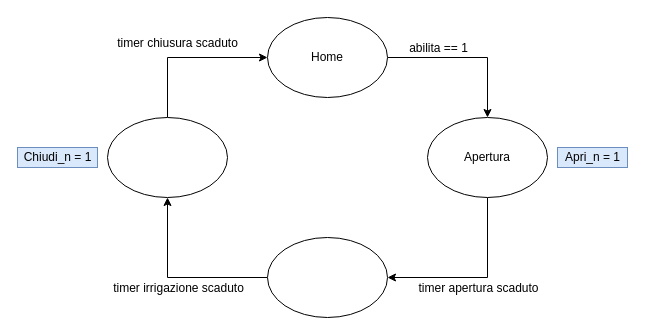
Some shapes in this 645 by 335 pixel diagram are drawn without their labels. Here are the shapes that lost their labels. From the top down, the centre of each, then its label:
At (167,157): "Chiusura".
At (327,277): "Irrigazione".
